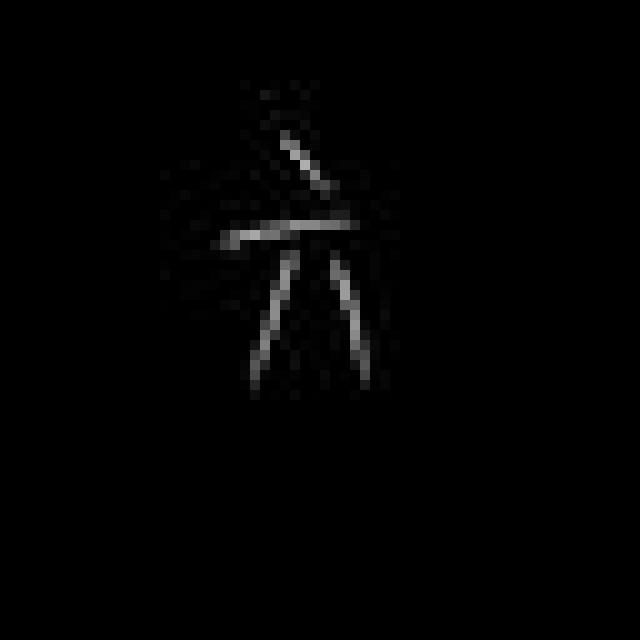6 -six-: (226, 125, 390, 392)
